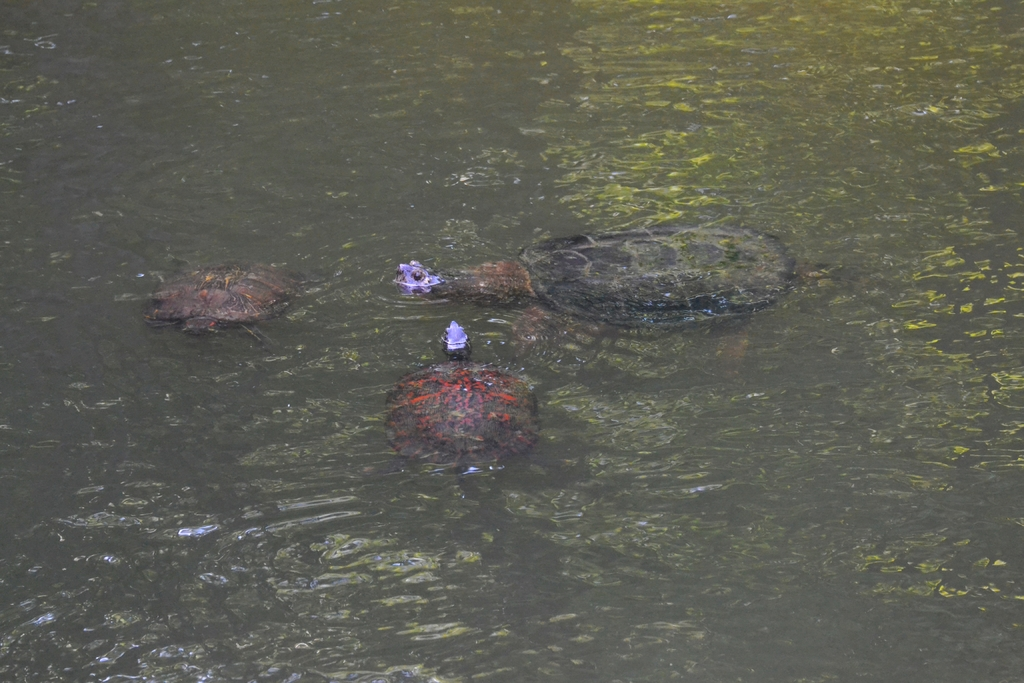Sea turtles: (393, 222, 828, 367), (387, 324, 540, 477), (142, 256, 306, 354)
